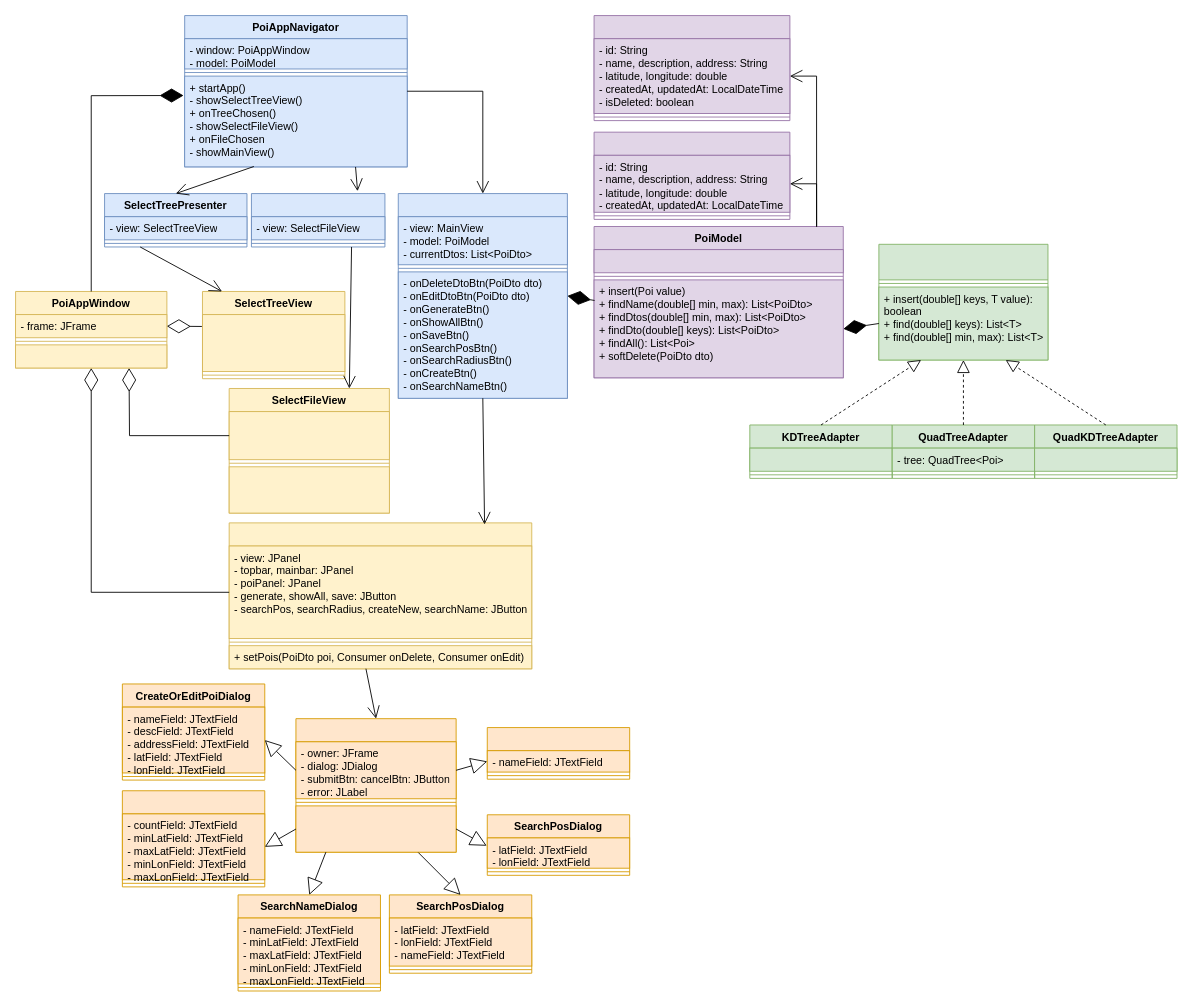
Some shapes in this 1193 by 1007 pixel diagram are drawn without their labels. Here are the shapes that lost their labels. From the top down, the box of each, then its label:
(593, 15, 790, 121): Poi
(593, 131, 790, 219): PoiDto
(251, 193, 385, 247): SelectFilePresenter
(593, 249, 843, 273): - tree: TreeAdapter<Poi>
(397, 193, 567, 398): MainPresenter
(878, 243, 1048, 360): <<Interface>> TreeAdapter<T>
(15, 344, 167, 368): + setContent(JPanel content)
(202, 314, 345, 372): - view: JPanel - kdBtn: JButton - quadBtn: JButton - quadKDBtn: JButton
(228, 411, 389, 460): - view: JPanel - filesPanel: JPanel - newBtn: JButton
(749, 447, 892, 471): - tree: KDTree<Poi>
(1034, 447, 1177, 471): - tree: QuadKDTree<Poi>
(228, 466, 389, 513): + setFiles(List fileNames, Consumer<String> onSelects)
(228, 522, 532, 669): MainView
(486, 727, 630, 779): SaveDialog
(295, 718, 456, 852): FormDialog
(121, 790, 265, 887): GenerateDialog
(295, 805, 456, 852): + show() + close() + showError()
